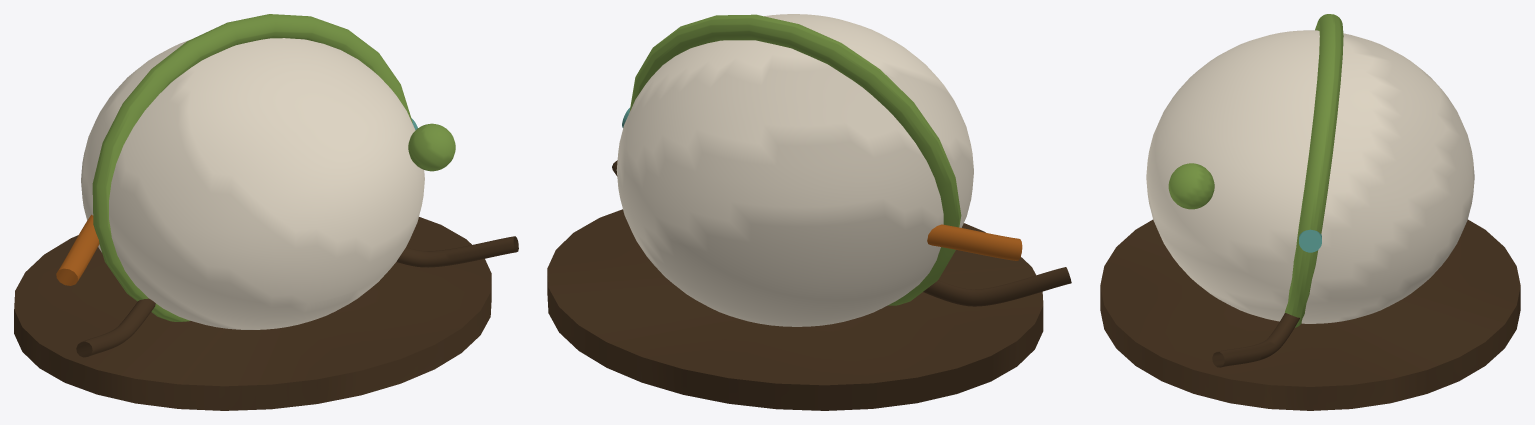
Rendered from 0415_微生物图鉴_沙门氏菌.glb.
The picture shows the model from 3 angles, left to right: view 1: azimuth 30°, elevation 25°; view 2: azimuth 150°, elevation 25°; view 3: azimuth 270°, elevation 25°; orthographic projection. The views are drawn at different scales.
Parts seen in each view (by area): view 1: card_0415; view 2: card_0415; view 3: card_0415.
Part boxes in pixels (x1,y1,x2,y2): card_0415: (14, 14, 518, 410); card_0415: (547, 14, 1071, 410); card_0415: (1100, 14, 1520, 410).
Bounding box in the file's own units: 1.6 × 1 × 1.36.
